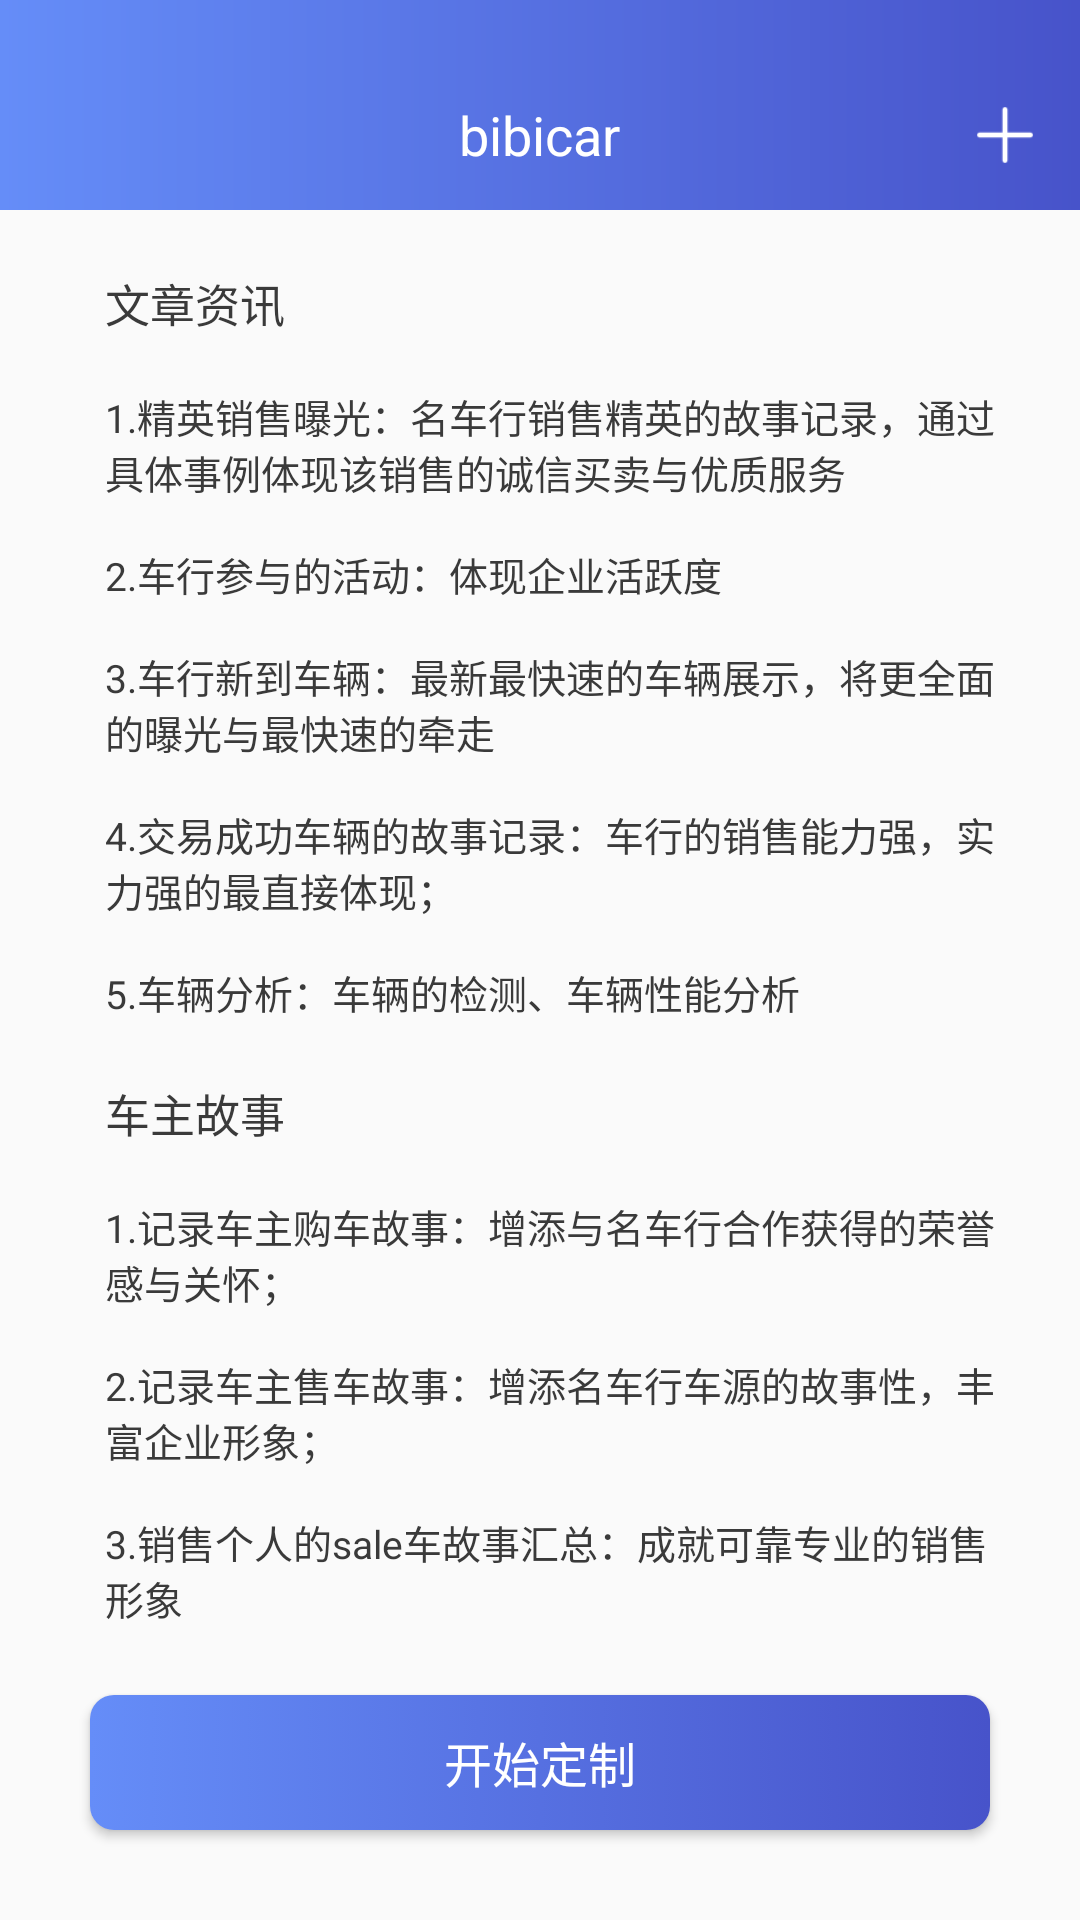

Named icons in this screenshot (1080px×1920px) and their bounding boxes, (x1, y1, x2, y2):
title bar add: (977, 107, 1033, 163)
